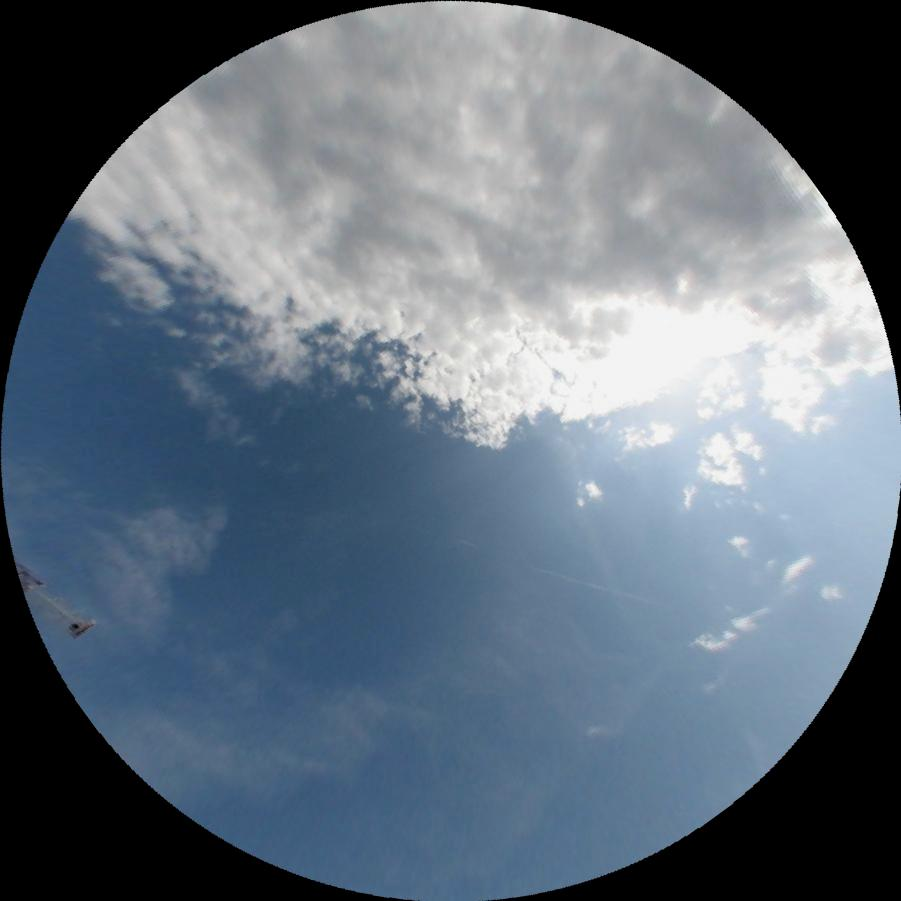contrail young: (528, 564, 659, 606)
